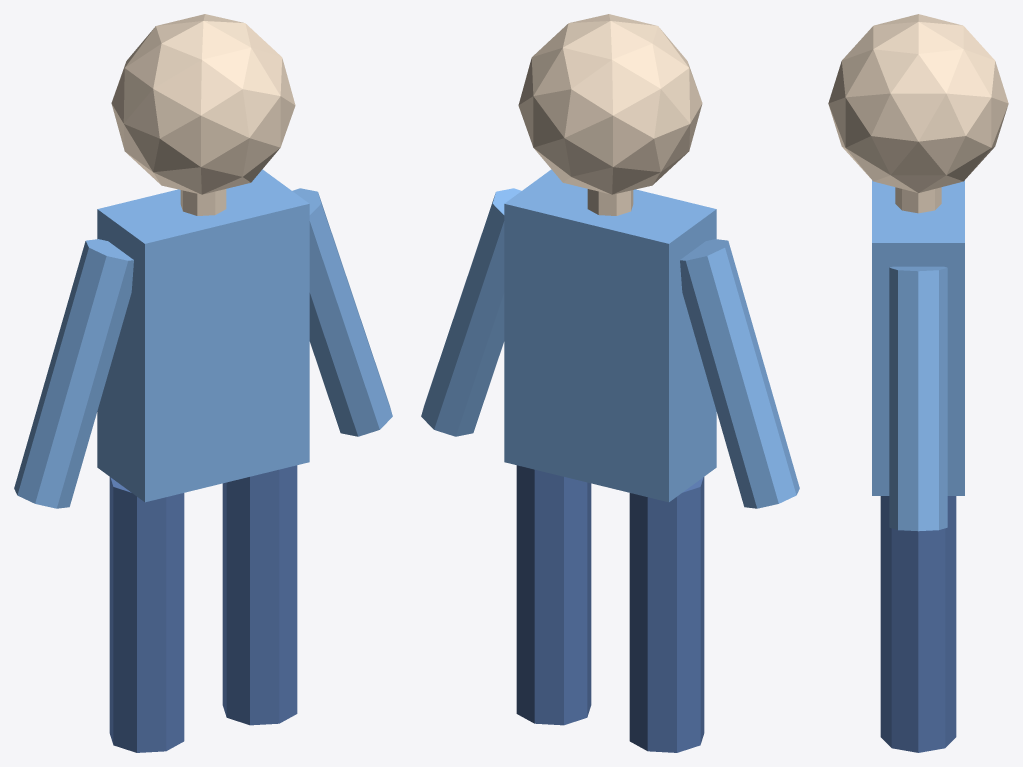
Rendered from user-figure-parts.glb.
The picture shows the model from 3 angles, left to right: view 1: azimuth 30°, elevation 25°; view 2: azimuth 150°, elevation 25°; view 3: azimuth 270°, elevation 25°; orthographic projection. The views are drawn at different scales.
Parts seen in each view (by area): view 1: torso, head, left_leg, right_leg, left_arm, right_arm, neck; view 2: torso, head, left_leg, right_leg, left_arm, right_arm, neck; view 3: head, right_leg, right_arm, torso, neck.
Part boxes in pixels (left/top/right/bottom): torso: left=97, top=169, right=309, bottom=502; head: left=111, top=14, right=295, bottom=194; left_leg: left=109, top=477, right=184, bottom=752; right_leg: left=222, top=465, right=297, bottom=725; left_arm: left=14, top=239, right=133, bottom=508; right_arm: left=292, top=188, right=392, bottom=436; neck: left=180, top=189, right=226, bottom=215; torso: left=504, top=169, right=716, bottom=502; head: left=518, top=14, right=702, bottom=194; left_leg: left=629, top=477, right=704, bottom=752; right_leg: left=516, top=465, right=591, bottom=725; left_arm: left=680, top=239, right=799, bottom=508; right_arm: left=421, top=188, right=521, bottom=436; neck: left=587, top=189, right=633, bottom=215; head: left=828, top=14, right=1008, bottom=192; right_leg: left=880, top=496, right=956, bottom=752; right_arm: left=889, top=266, right=947, bottom=531; torso: left=872, top=180, right=964, bottom=495; neck: left=895, top=187, right=941, bottom=213.
Size of the model in its own units: 0.7232 by 1.3 by 0.31.
